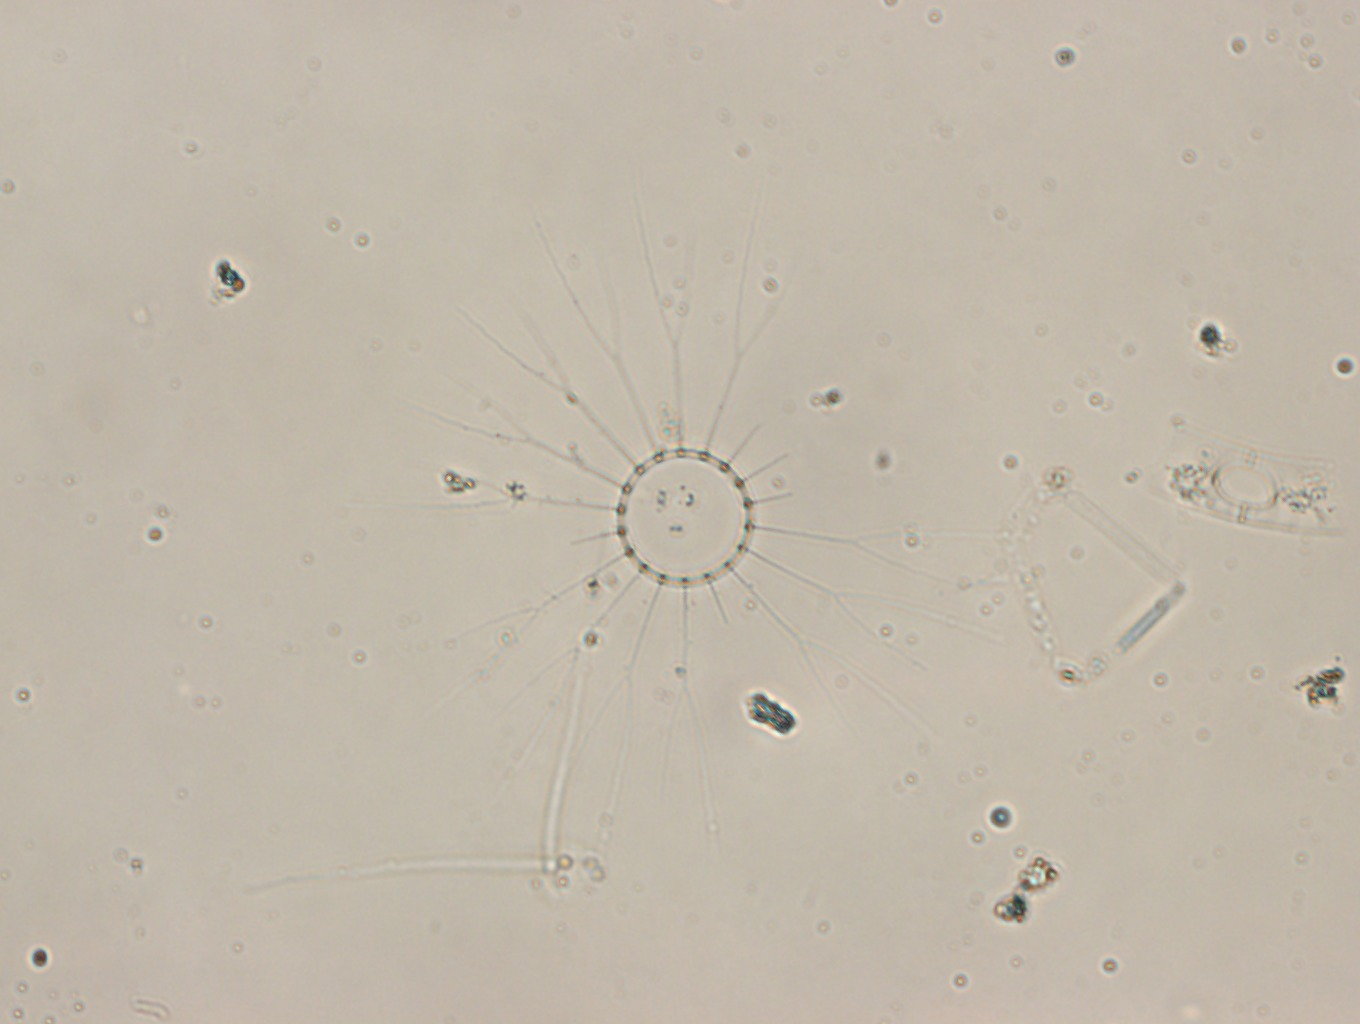bacteriastrum: (376, 191, 1037, 833)
eucampia: (1154, 408, 1352, 541)
